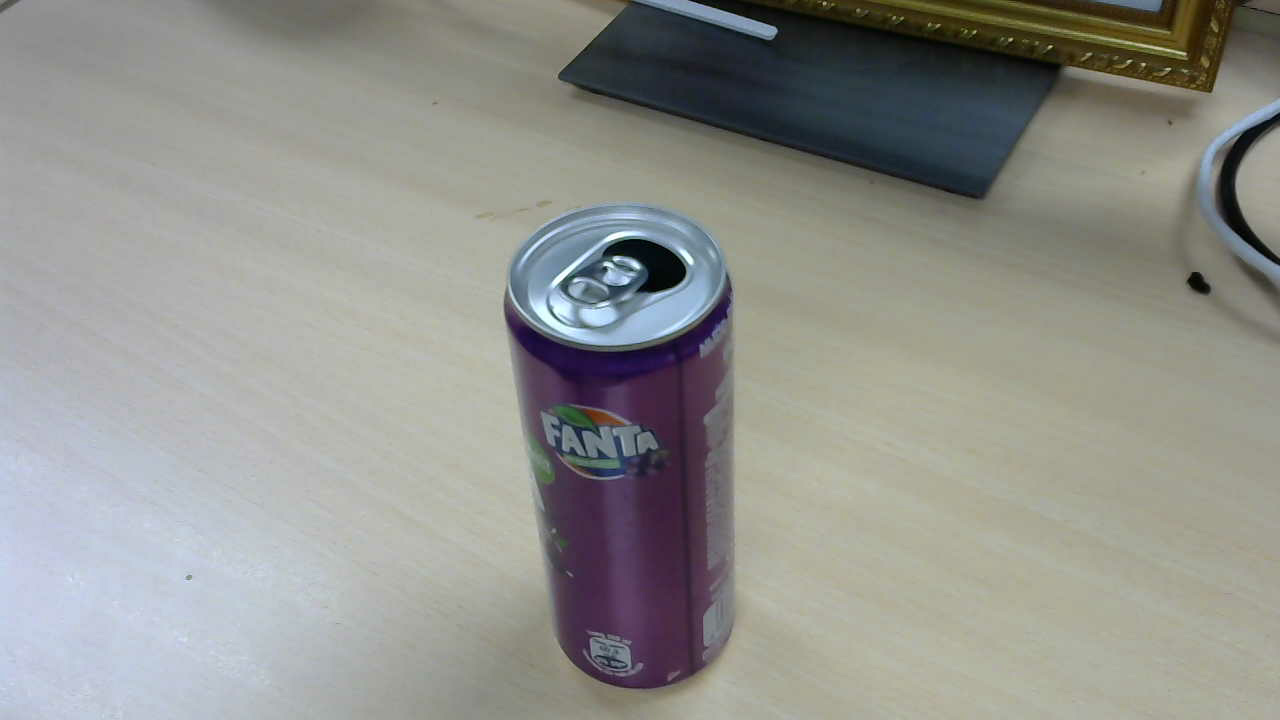Fanta: (508, 214, 747, 696)
